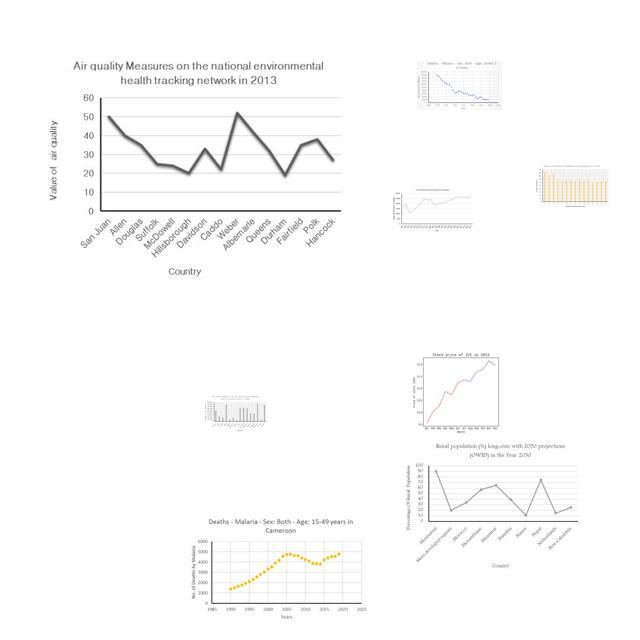Graph: (43, 57, 354, 281), (404, 441, 580, 571), (187, 516, 371, 623), (400, 347, 519, 436), (417, 61, 502, 110), (392, 187, 473, 232), (534, 164, 610, 209), (203, 394, 268, 433)
